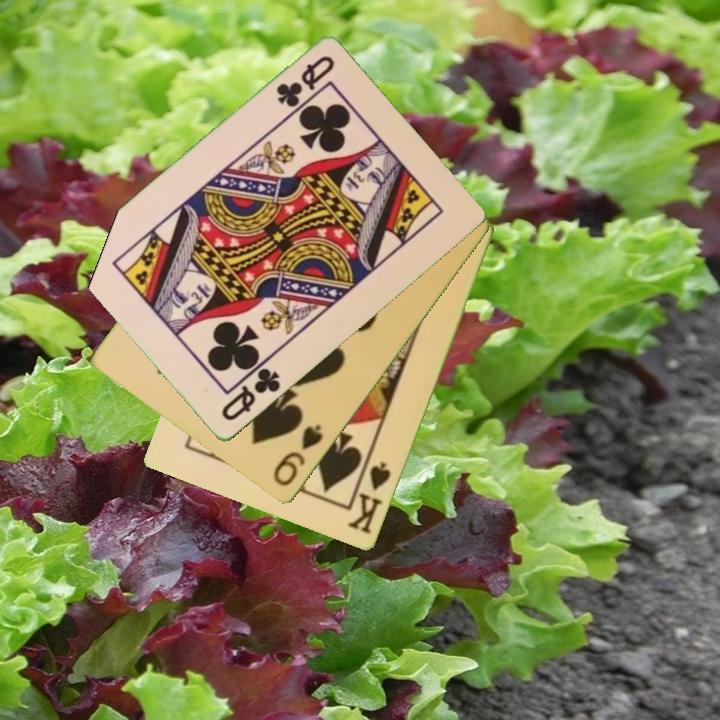9s: (269, 421, 327, 490)
Ks: (344, 459, 394, 538)
Qc: (218, 365, 284, 425), (272, 52, 338, 111)
